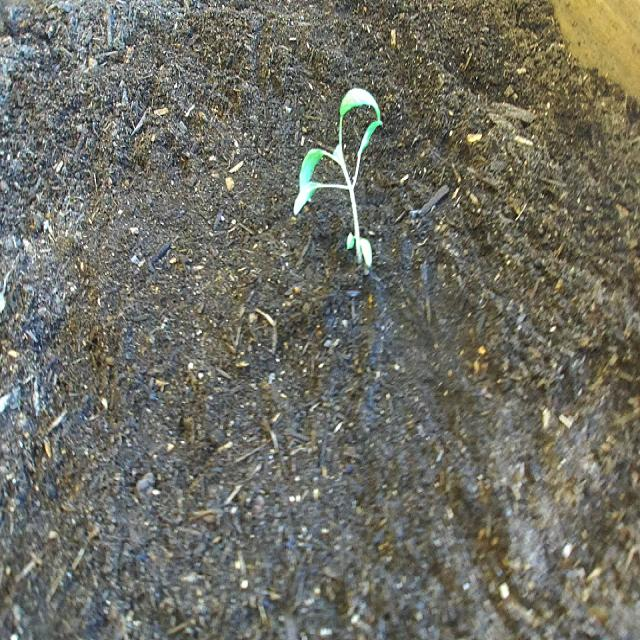Healthy: (291, 82, 386, 274)
